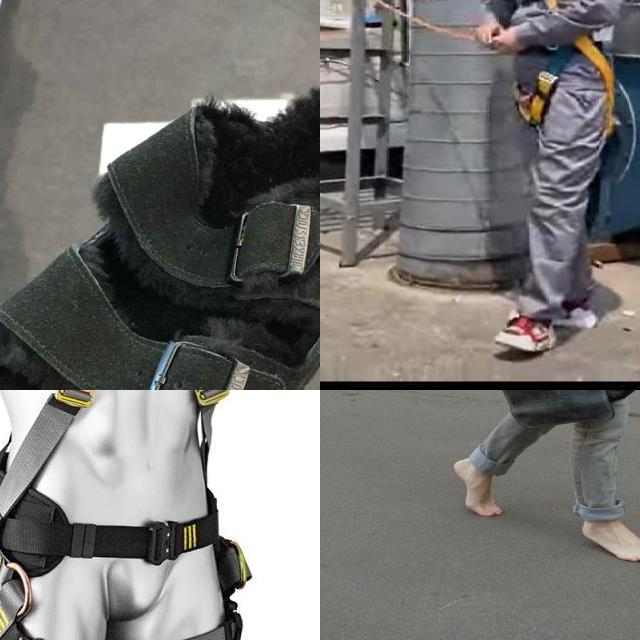Barefoots: (453, 458, 503, 517), (582, 519, 640, 563)
Harness: (0, 390, 251, 640), (501, 0, 618, 148)
Sandals: (0, 33, 320, 390)
